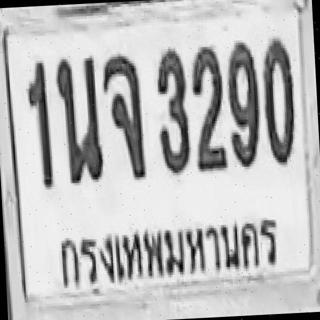A08: (100, 51, 147, 180)
A25: (54, 54, 104, 185)
N00: (260, 35, 298, 166)
N01: (24, 59, 53, 189)
N02: (190, 44, 228, 172)
N03: (153, 46, 191, 174)
N09: (225, 38, 261, 169)
P04: (54, 208, 286, 292)
